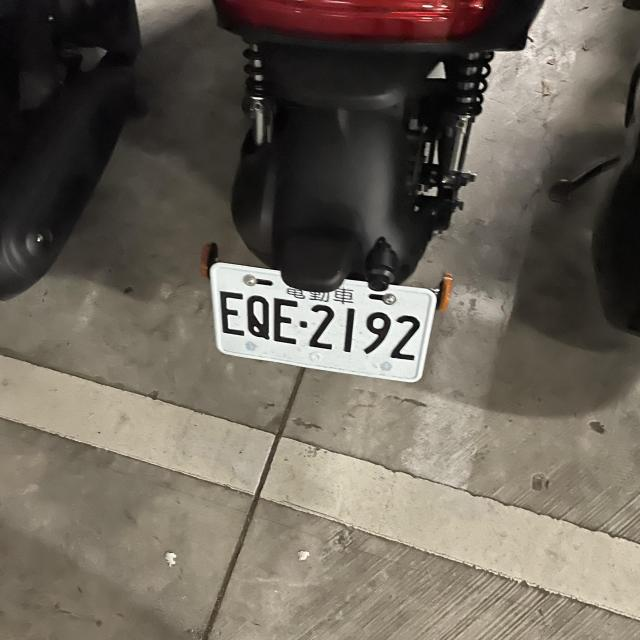W: (198, 255, 439, 385)
